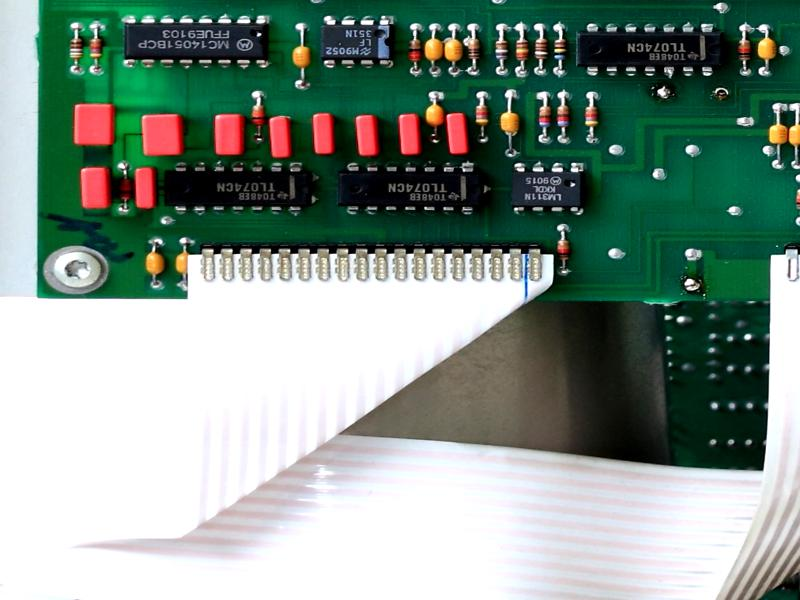Resistor: (472, 101, 492, 131), (406, 34, 424, 66), (249, 101, 267, 132), (68, 34, 85, 64), (465, 33, 482, 63), (88, 34, 106, 62), (493, 36, 510, 65), (514, 35, 530, 65), (584, 102, 599, 133), (736, 36, 752, 64), (119, 174, 133, 204), (534, 35, 548, 63), (556, 237, 570, 265), (554, 35, 567, 65), (538, 104, 553, 130), (557, 103, 570, 131)
